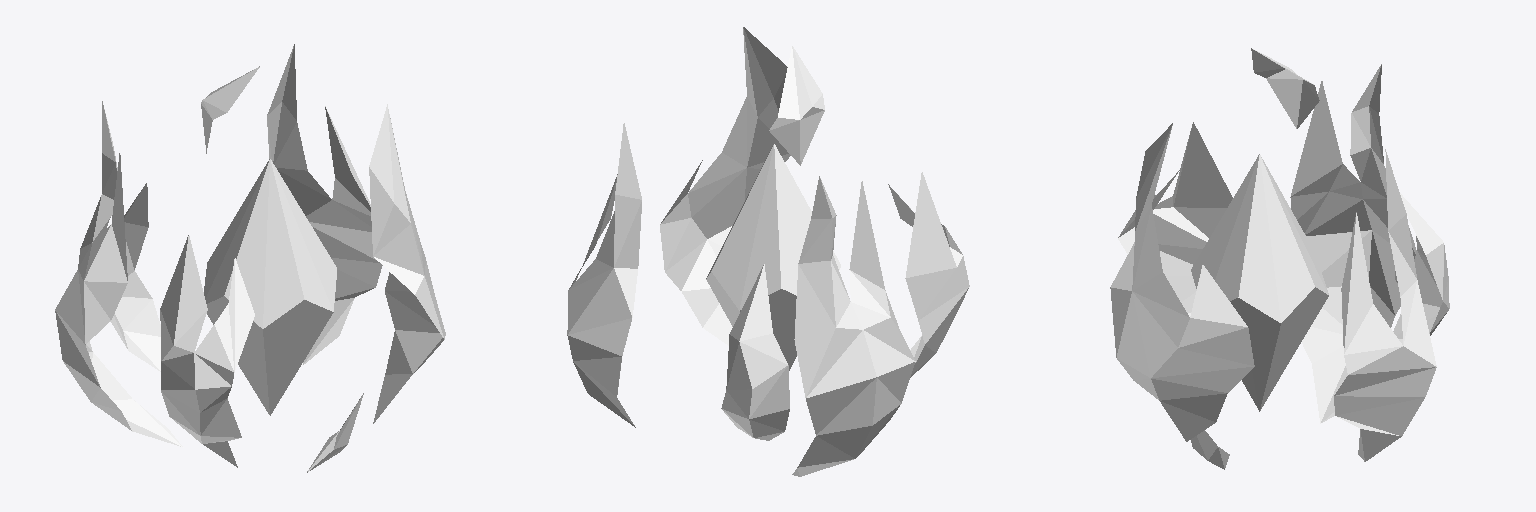
File: awakened.obj
The picture shows the model from 3 angles: view 1: azimuth 30°, elevation 25°; view 2: azimuth 150°, elevation 25°; view 3: azimuth 270°, elevation 25°; orthographic projection.
Visible parts, largest first — view 1: Awakened; view 2: Awakened; view 3: Awakened.
Boxes of the visible parts, <box> form: Awakened: <box>55,44,445,472</box>; Awakened: <box>567,27,969,476</box>; Awakened: <box>1110,48,1449,469</box>.
Bounding box in the file's own units: 1.15 × 1.4 × 1.06.